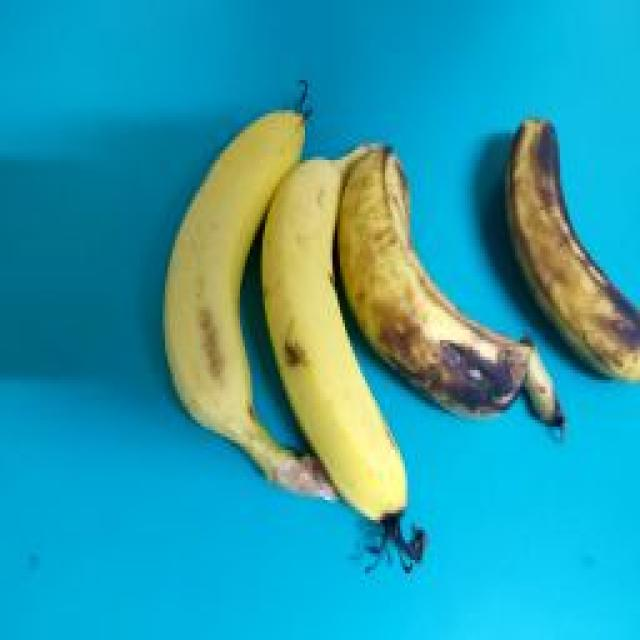Organik: (239, 123, 404, 559), (330, 104, 530, 451), (142, 56, 304, 484), (489, 69, 637, 395)
